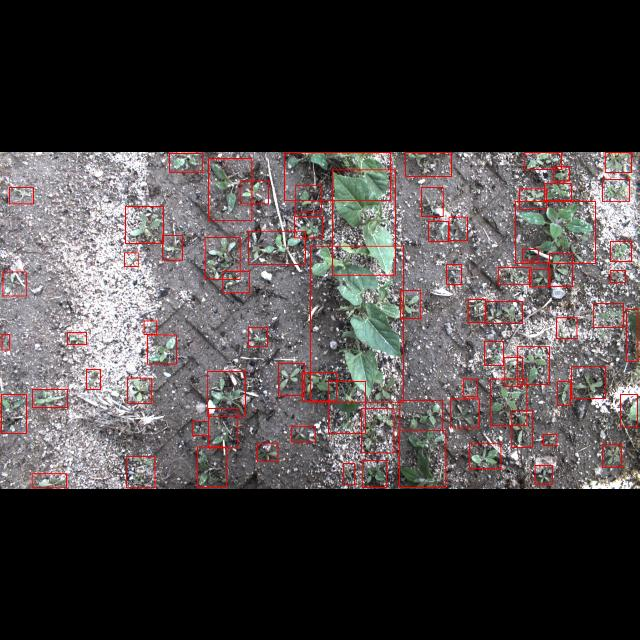crop: (311, 244, 404, 402), (332, 169, 396, 275), (285, 152, 391, 200)
weed: (515, 200, 595, 262), (398, 429, 446, 486), (208, 158, 252, 220), (328, 381, 366, 434), (248, 230, 306, 264), (489, 378, 526, 426), (207, 370, 245, 416), (204, 237, 240, 279), (362, 408, 394, 452), (125, 205, 163, 242), (400, 400, 442, 430), (517, 346, 549, 384), (208, 408, 238, 448), (198, 447, 226, 487), (405, 151, 451, 175), (572, 366, 606, 398), (1, 394, 26, 434), (302, 372, 336, 401), (450, 398, 480, 428), (278, 362, 304, 396), (126, 457, 154, 488), (148, 334, 176, 364), (486, 301, 522, 323), (550, 252, 572, 286), (512, 409, 532, 446), (294, 185, 322, 211), (470, 444, 500, 468), (32, 388, 68, 408), (594, 303, 624, 327), (169, 152, 203, 172), (362, 460, 386, 488), (421, 187, 443, 216), (626, 308, 638, 360), (222, 270, 250, 292), (240, 180, 268, 202), (294, 215, 322, 237), (602, 178, 630, 200), (524, 152, 562, 168), (128, 378, 152, 402), (2, 271, 26, 295), (498, 266, 530, 284), (620, 394, 638, 426), (503, 356, 522, 386), (401, 290, 421, 318), (604, 151, 632, 171), (162, 234, 182, 260), (520, 188, 546, 208), (544, 182, 572, 200), (484, 341, 504, 365), (448, 216, 468, 240), (32, 474, 66, 488), (610, 241, 632, 261), (602, 444, 622, 466), (468, 298, 486, 322), (557, 317, 577, 338), (428, 221, 448, 241), (256, 443, 278, 461), (291, 426, 315, 442), (9, 187, 33, 203), (248, 328, 268, 347), (530, 268, 550, 286), (534, 466, 552, 484), (446, 264, 462, 284), (558, 380, 570, 406), (87, 369, 101, 389), (463, 378, 477, 396), (193, 421, 209, 435), (553, 166, 569, 180), (344, 463, 354, 485), (68, 332, 86, 344), (124, 252, 138, 266), (522, 248, 538, 260), (610, 270, 626, 282), (144, 320, 156, 334), (543, 434, 557, 446), (2, 333, 10, 349)
